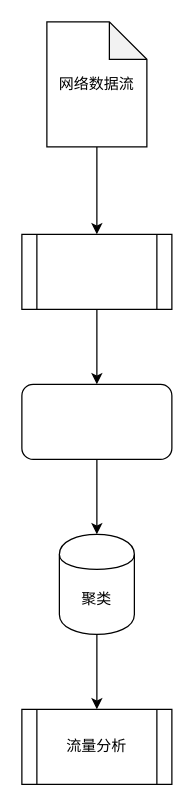
The diagram is 194 pixels wide and 806 high, and some of its shapes have lost their labels. The shapes that lost their labels are listed below. From the top down, each one's box as (x1, y1, x2, y2) in pixels, then its label:
(21, 233, 172, 309): AI模型
(21, 383, 172, 459): 数据包特征
